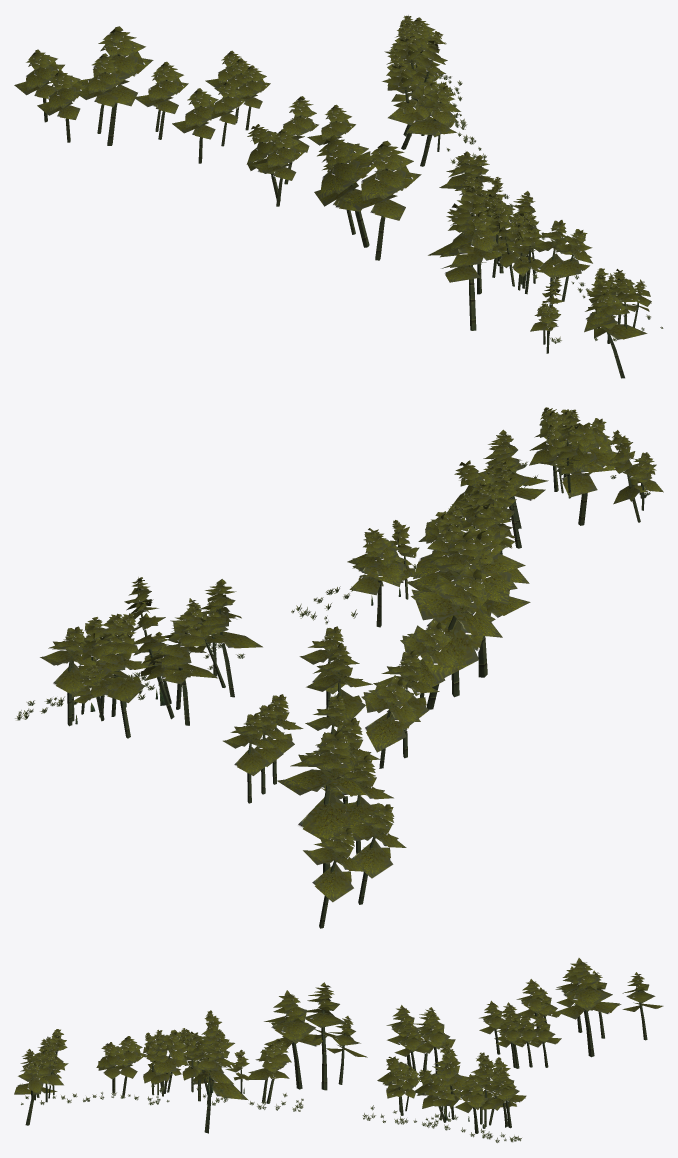
Rendered from tree03.fbx.
The picture shows the model from 3 angles, top to bottom: view 1: azimuth 30°, elevation 25°; view 2: azimuth 150°, elevation 25°; view 3: azimuth 270°, elevation 25°; orthographic projection. The views are drawn at different scales.
Visible parts, largest first — view 1: tree03; view 2: tree03; view 3: tree03.
Part boxes in pixels (left/top/right/bottom): tree03: left=14, top=15, right=663, bottom=378; tree03: left=15, top=407, right=663, bottom=928; tree03: left=14, top=958, right=663, bottom=1142.
Bounding box in the file's own units: 5861 × 2533 × 11713.
